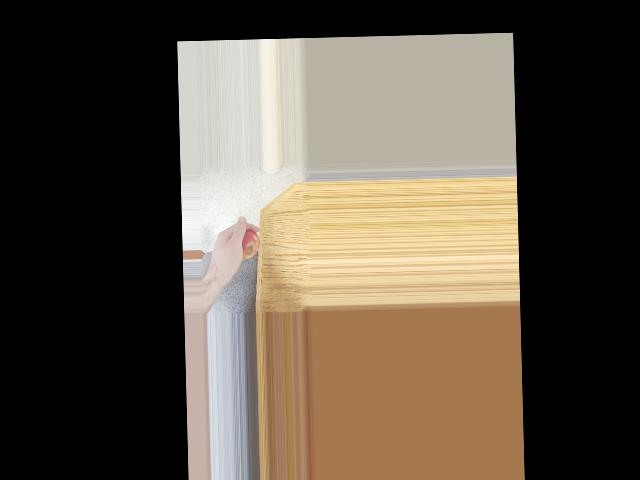apple: (232, 228, 261, 263)
